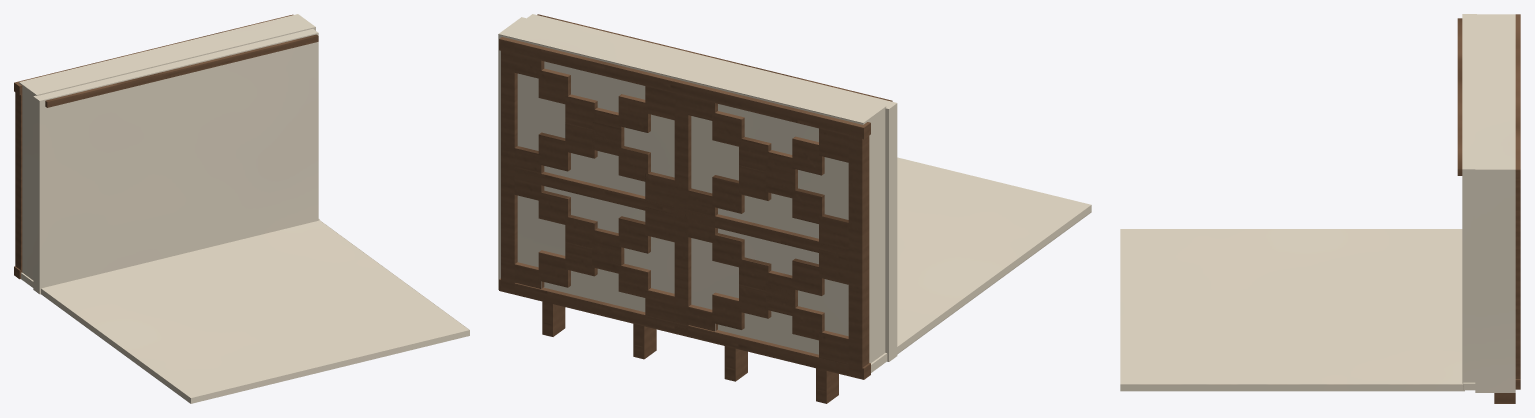
The model's file is med_wall_jetty.glb.
3 renders of one model, left to right at view 1: azimuth 30°, elevation 25°; view 2: azimuth 150°, elevation 25°; view 3: azimuth 270°, elevation 25°, orthographic. The views are drawn at different scales.
Visible parts, largest first — view 1: med_wall_jetty; view 2: med_wall_jetty; view 3: med_wall_jetty.
Part boxes in pixels (left/top/right/bottom): med_wall_jetty: left=14, top=14, right=469, bottom=403; med_wall_jetty: left=498, top=14, right=1091, bottom=403; med_wall_jetty: left=1120, top=14, right=1520, bottom=403.
Size of the model in its own units: 4.04 by 3.04 by 4.36.
1 material, 1 textured.
